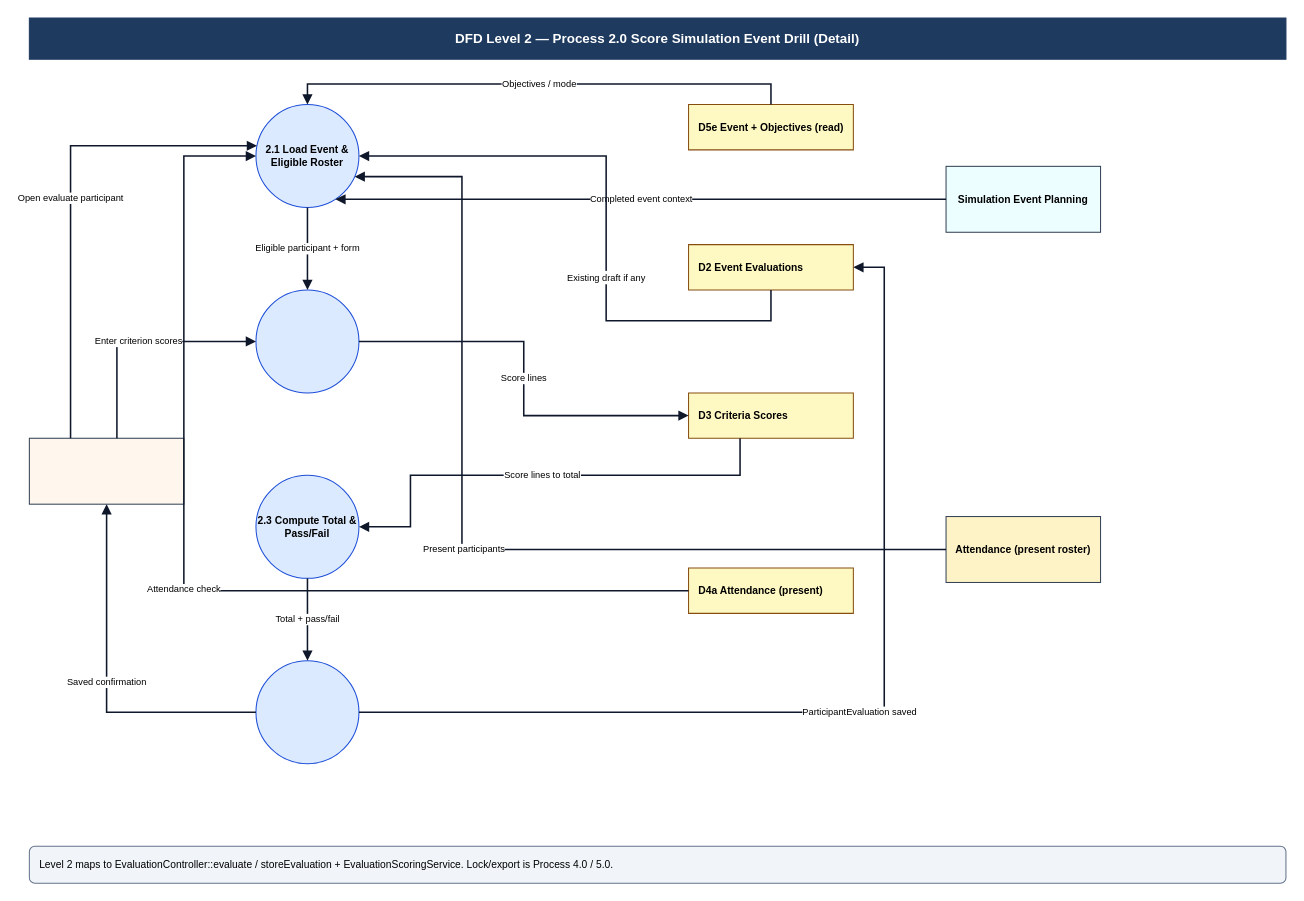
The diagram is 1304 pixels wide and 901 high, and some of its shapes have lost their labels. The box of each missing label's shape, as (x1, y1, x2, y2) in pixels:
2.2 Apply Evaluation Criteria: (255, 289, 359, 393)
2.4 Save Participant Evaluation: (255, 660, 359, 764)
Evaluator / Admin: (28, 437, 184, 504)
